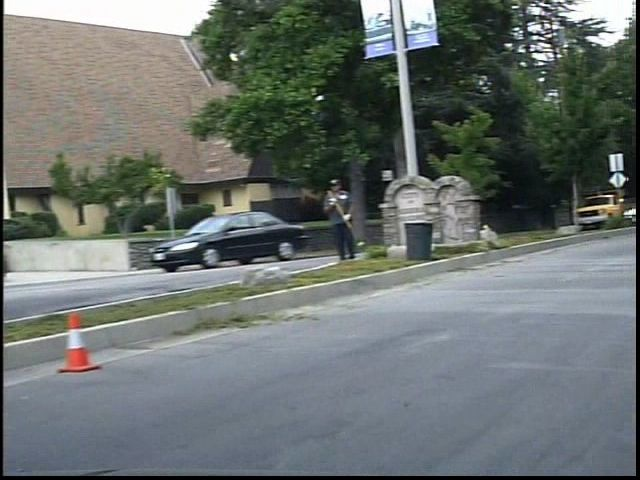person: (332, 174, 372, 265)
